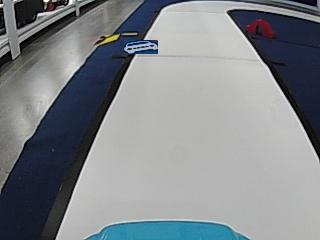bridge: (248, 20, 275, 38)
